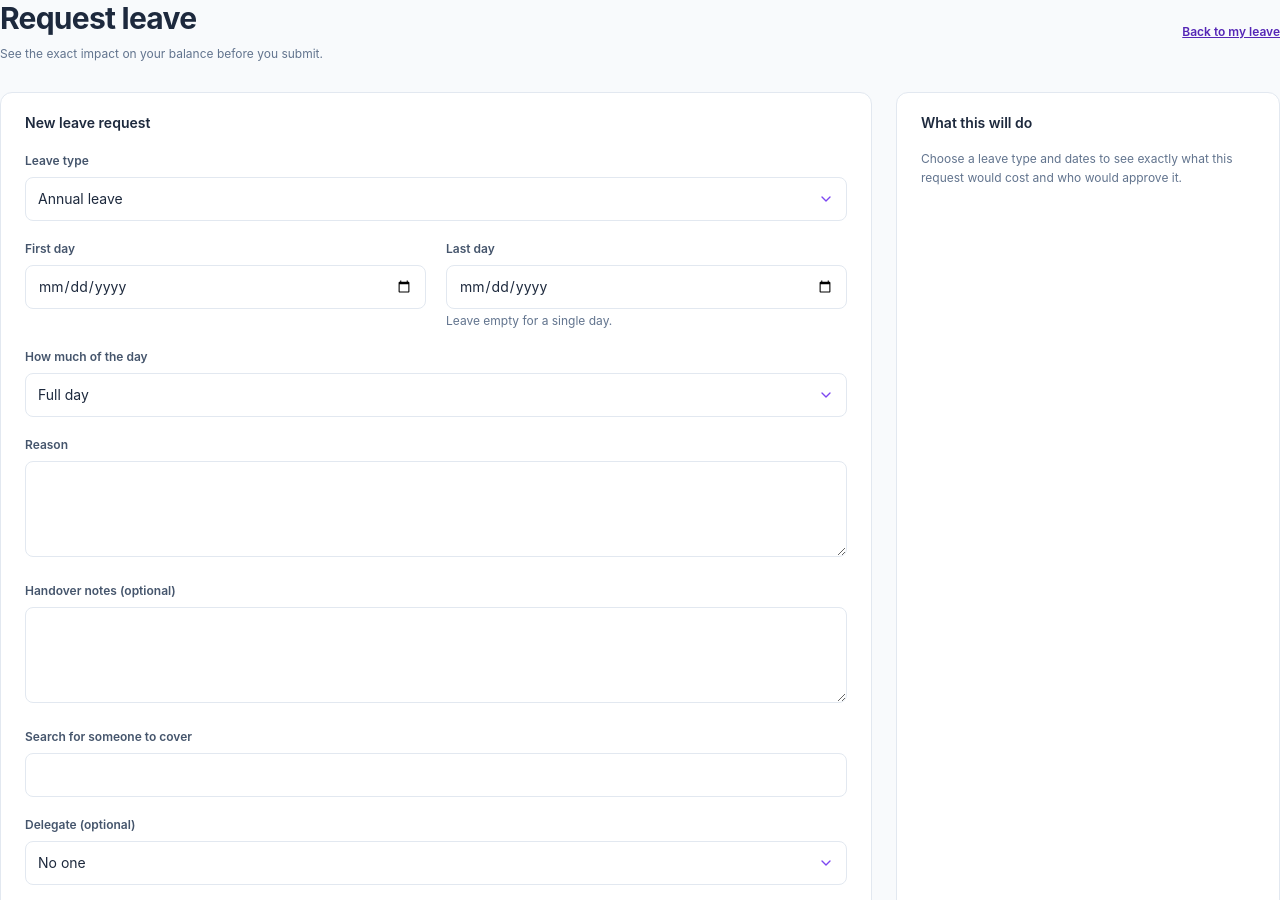
Test: New request flow › keeps the same key after a lost connection so a retry cannot double-submit
In the date field labelled "First day": [226, 286] box 25,264 -> 426,308, type "2026-10-15"
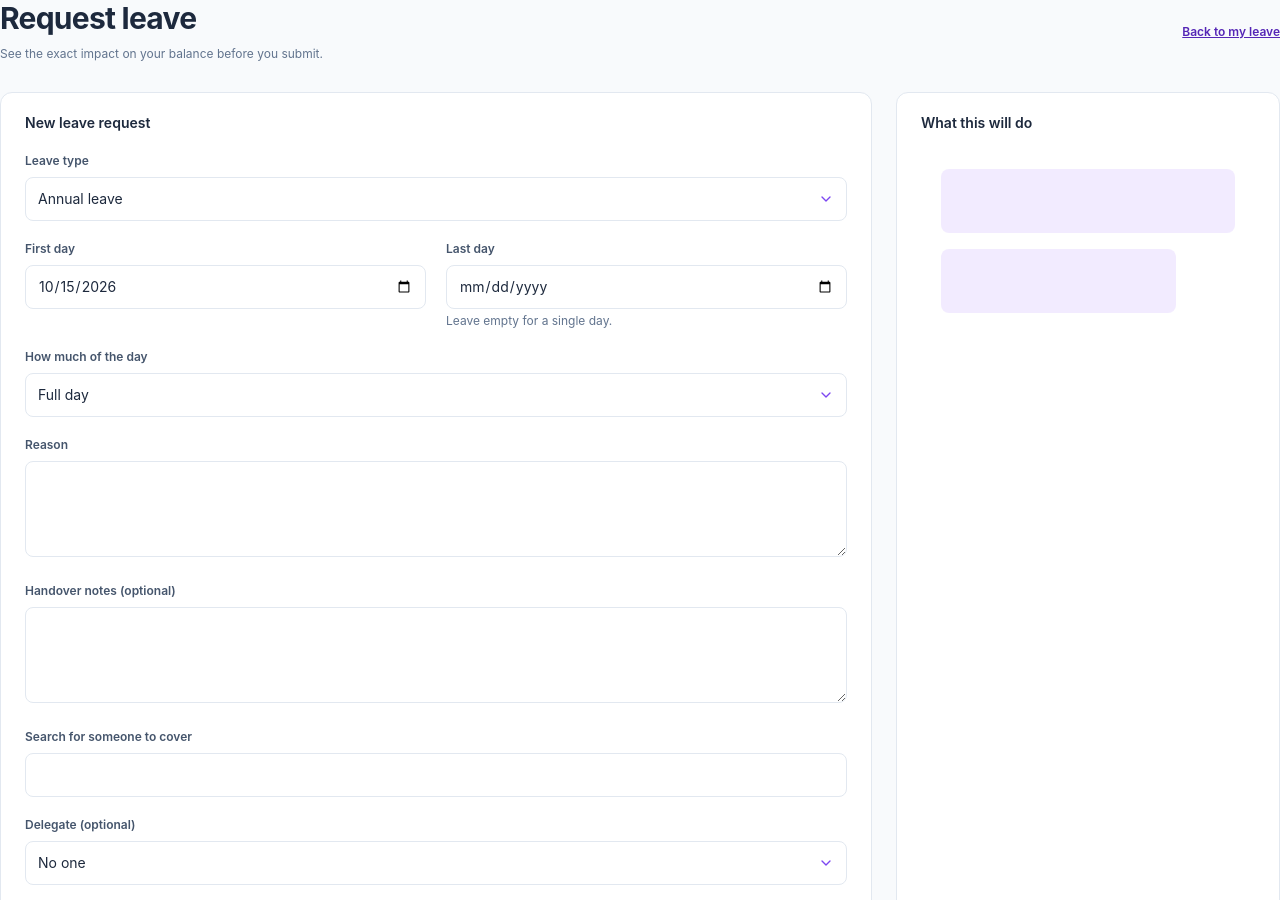
In the date field labelled "Last day": [646, 286] box 446,264 -> 847,308, type "2026-10-16"
(page scrolled)
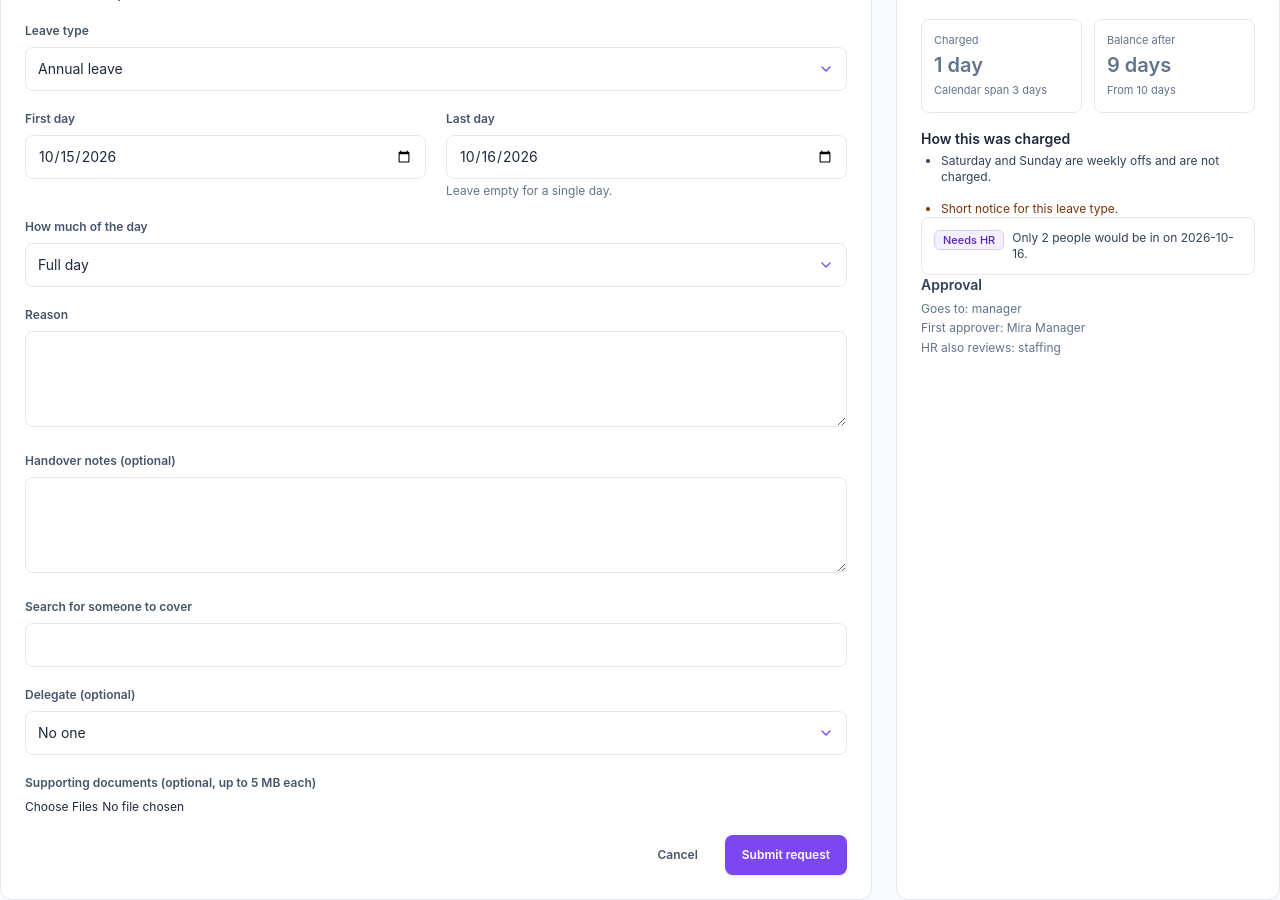
expect the text "1 day" is shown: met, box 934,53 -> 983,77
Click the button "Submit request": [786, 854] box 725,834 -> 847,874
(page scrolled)
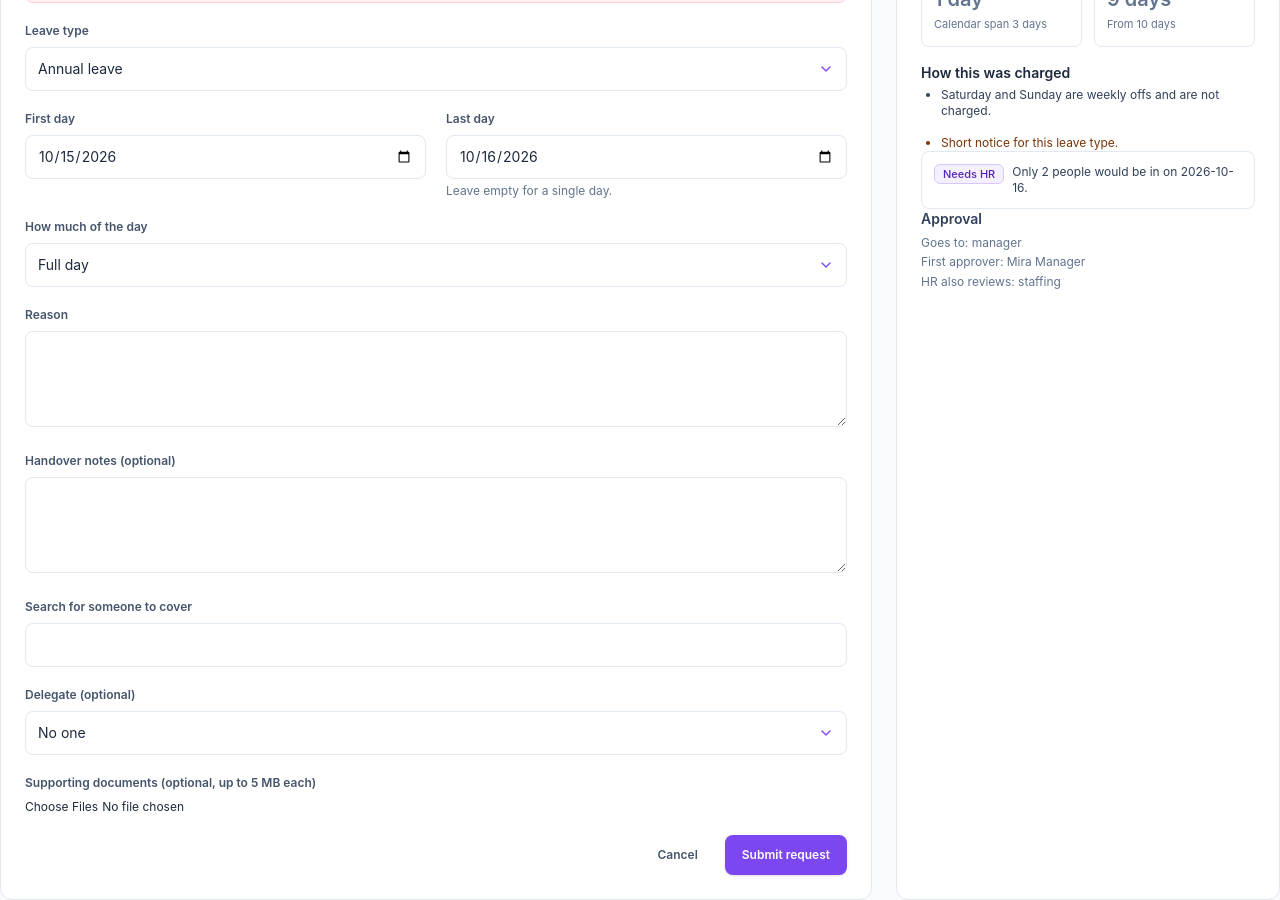
Click the button "Submit request": [786, 854] box 725,834 -> 847,874
(page scrolled)
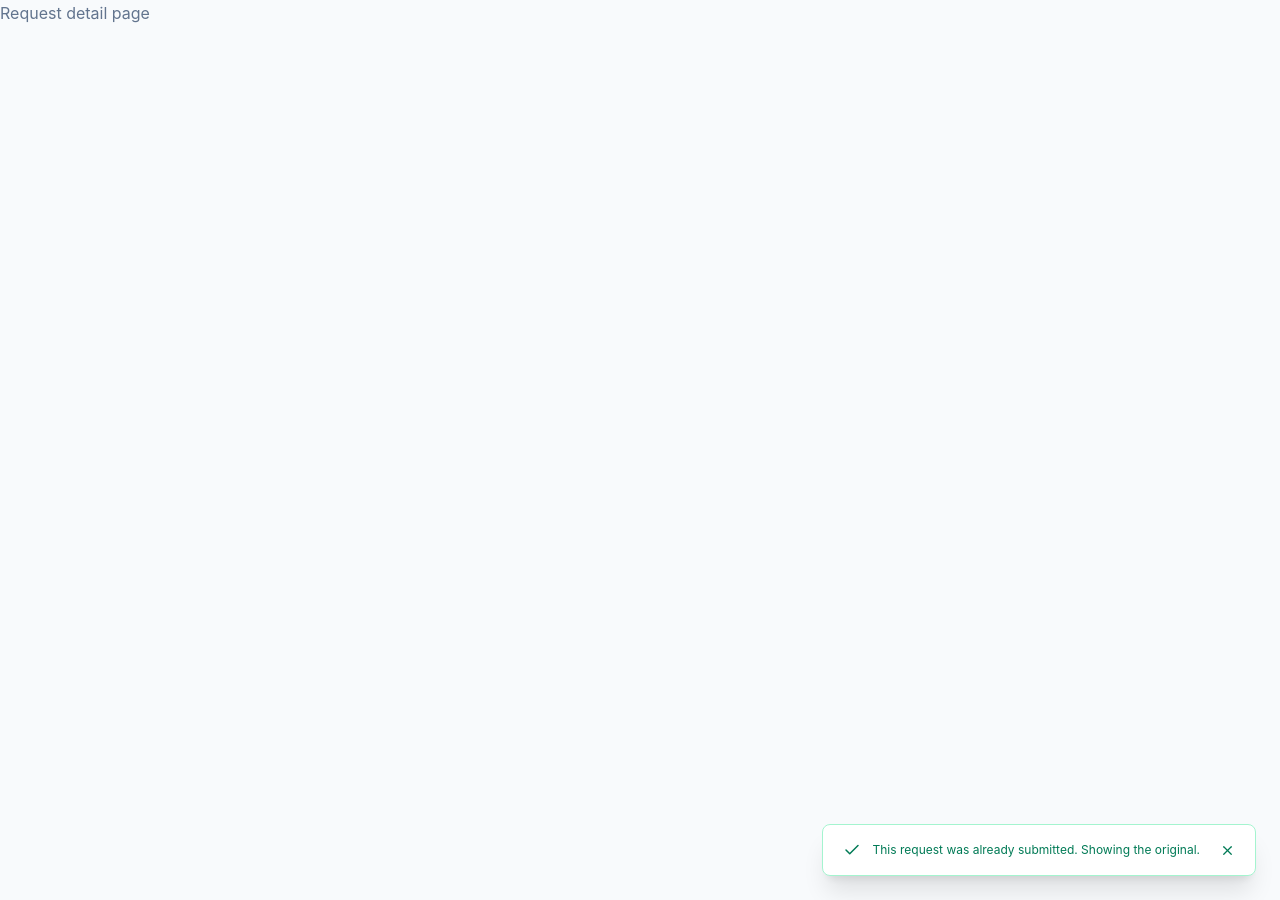
expect the text "Request detail page" is shown: met, box 0,3 -> 150,23
